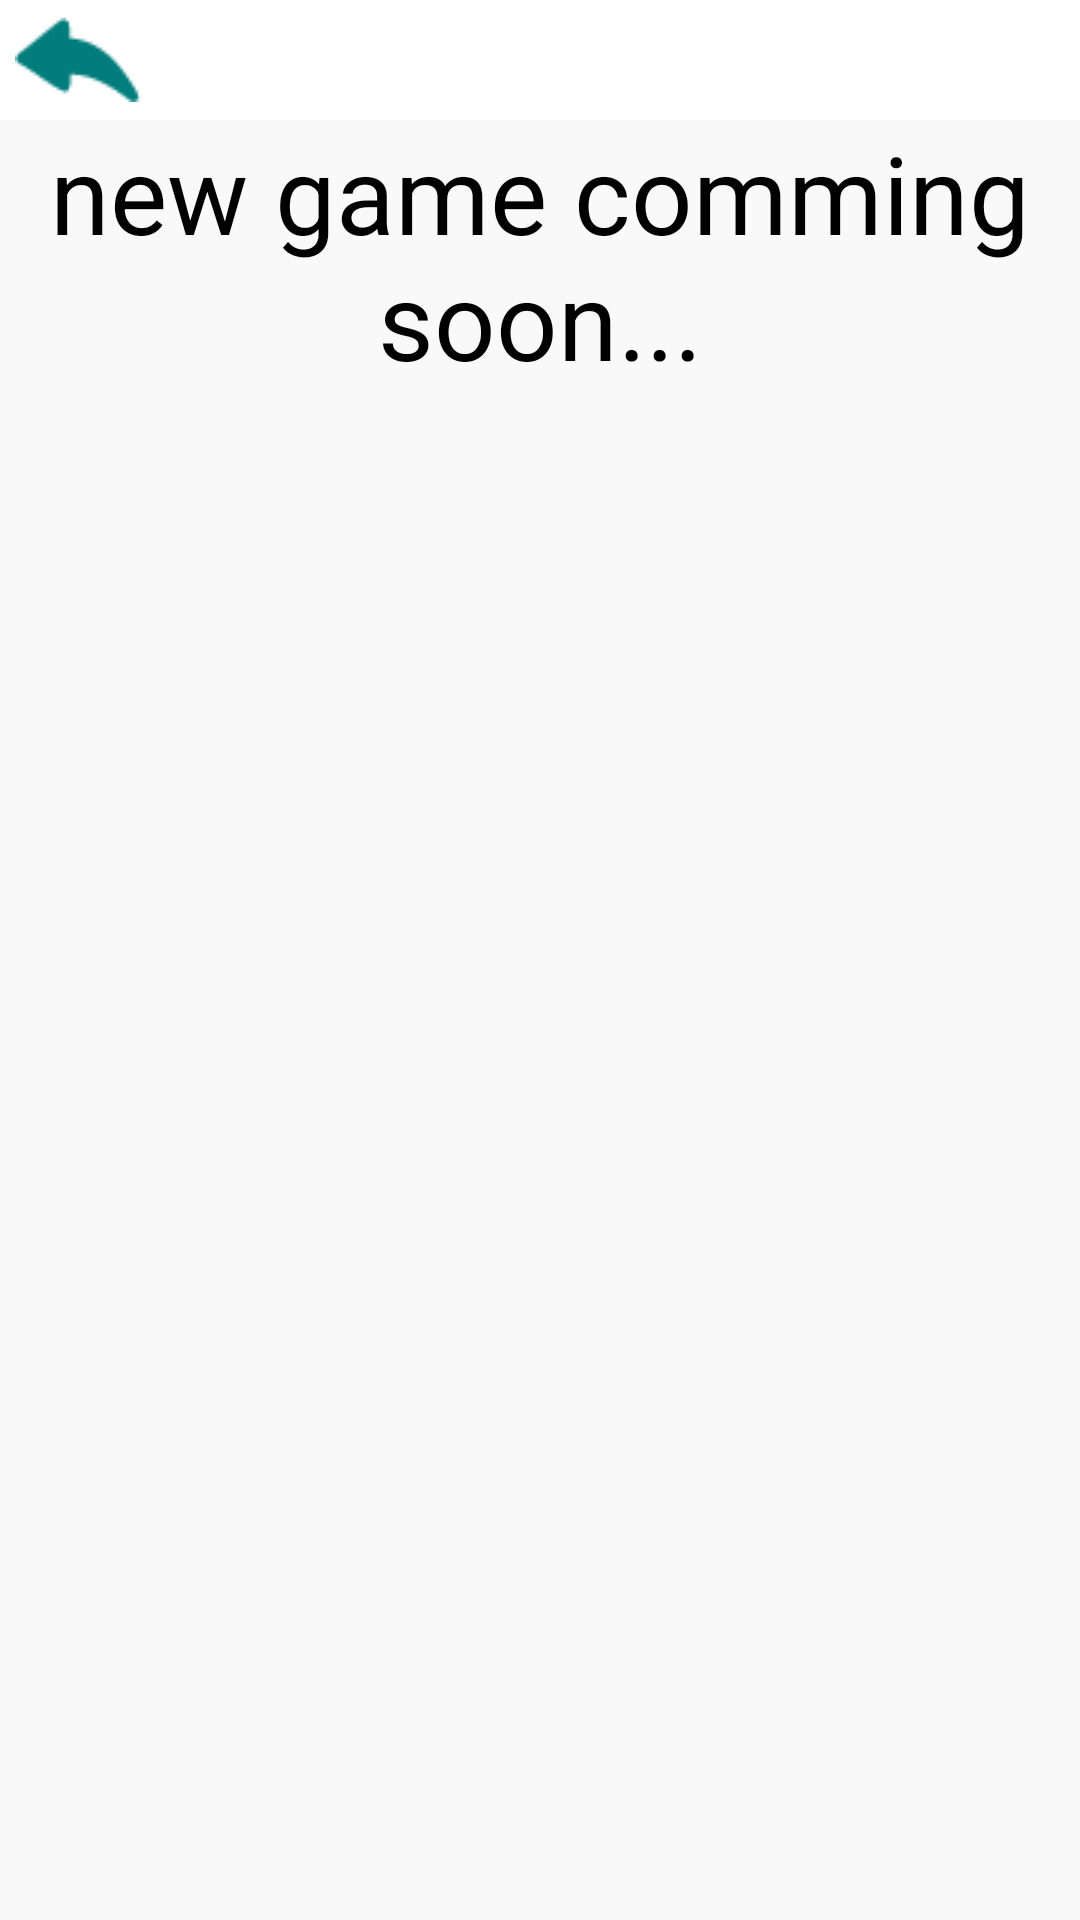

Where icons sit on this 1080px×1920px app screen, as (x1, y1, x2, y2):
back: (15, 18, 141, 102)
